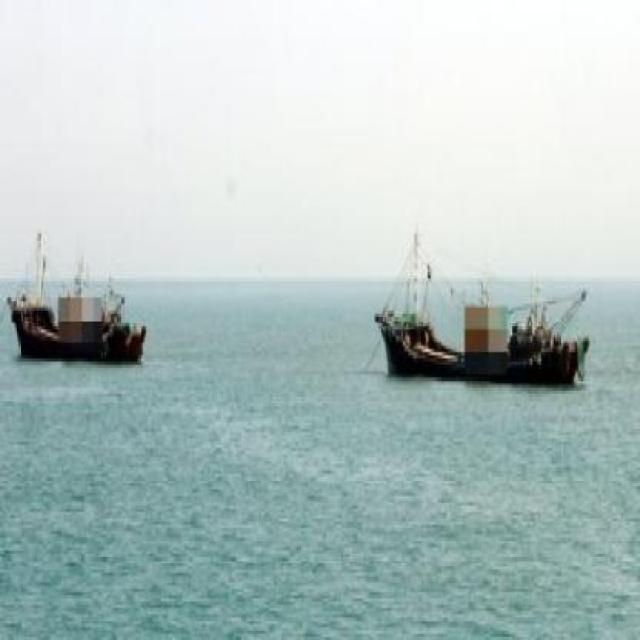fish-b: (357, 202, 613, 414), (2, 196, 159, 389)
